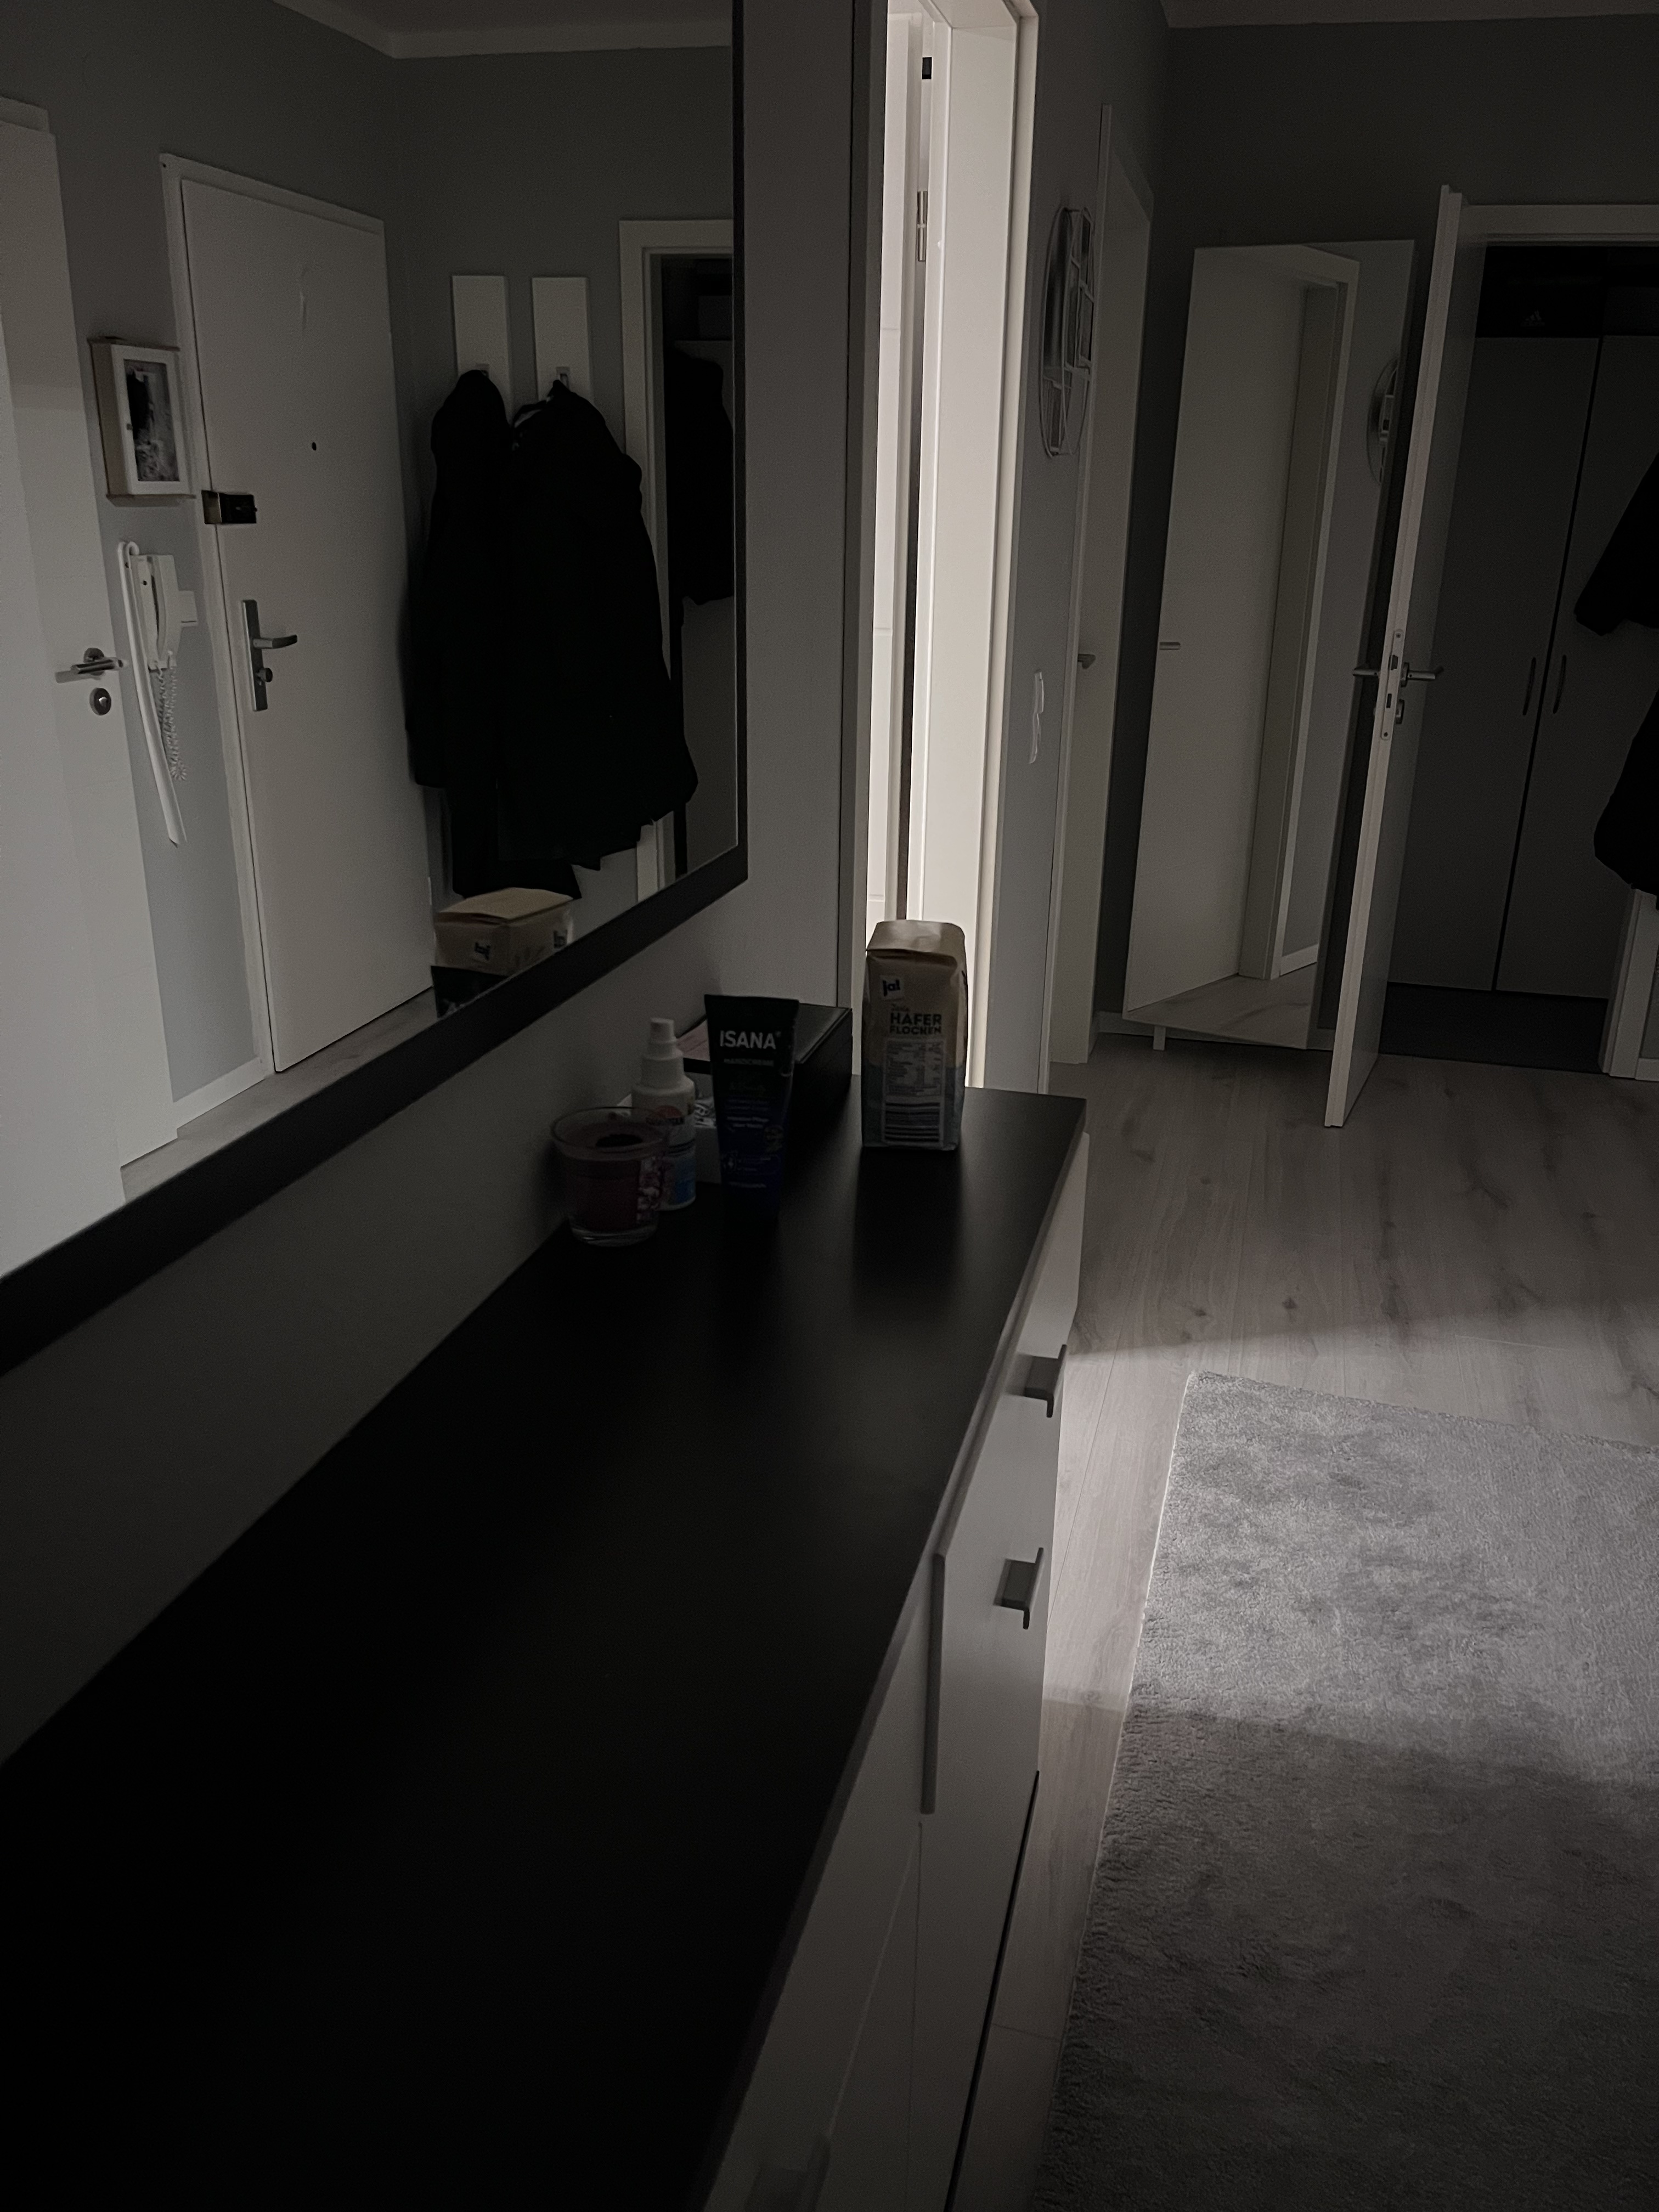haferflocken_ja: (861, 920, 972, 1157)
